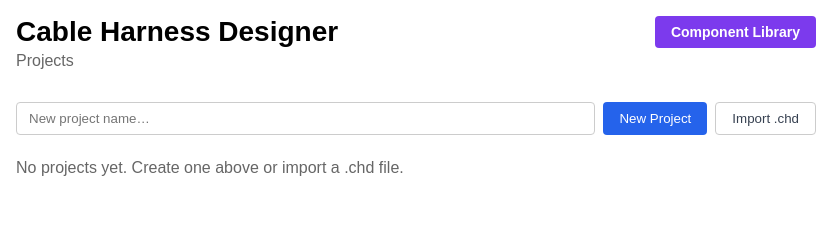
ProjectListScreen › creates a new project and shows it in the list
The width and height of the screenshot is (833, 246).
expect the text "No projects yet. Create one above or import a .chd file." is shown: met, box [16,159,404,176]
In the field with placeholder "New project name…": (306, 118) [16,102,596,135], type "My Harness"
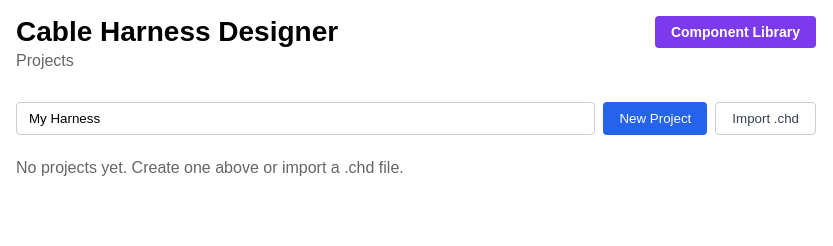
Click the button "New Project": (655, 118) [604,102,707,135]
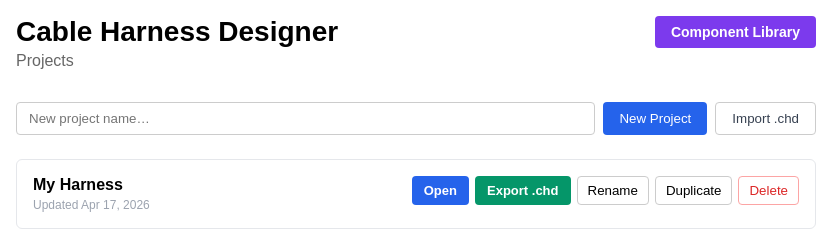
expect the text "My Harness" is shown: met, box [33,176,123,193]
